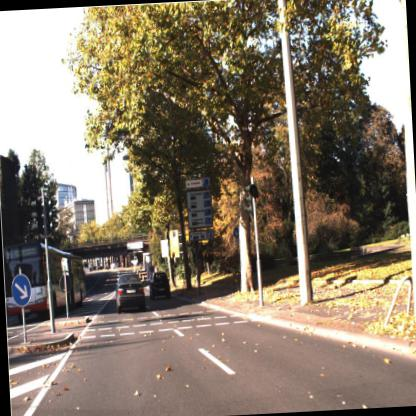mandatory: (6, 268, 34, 315)
